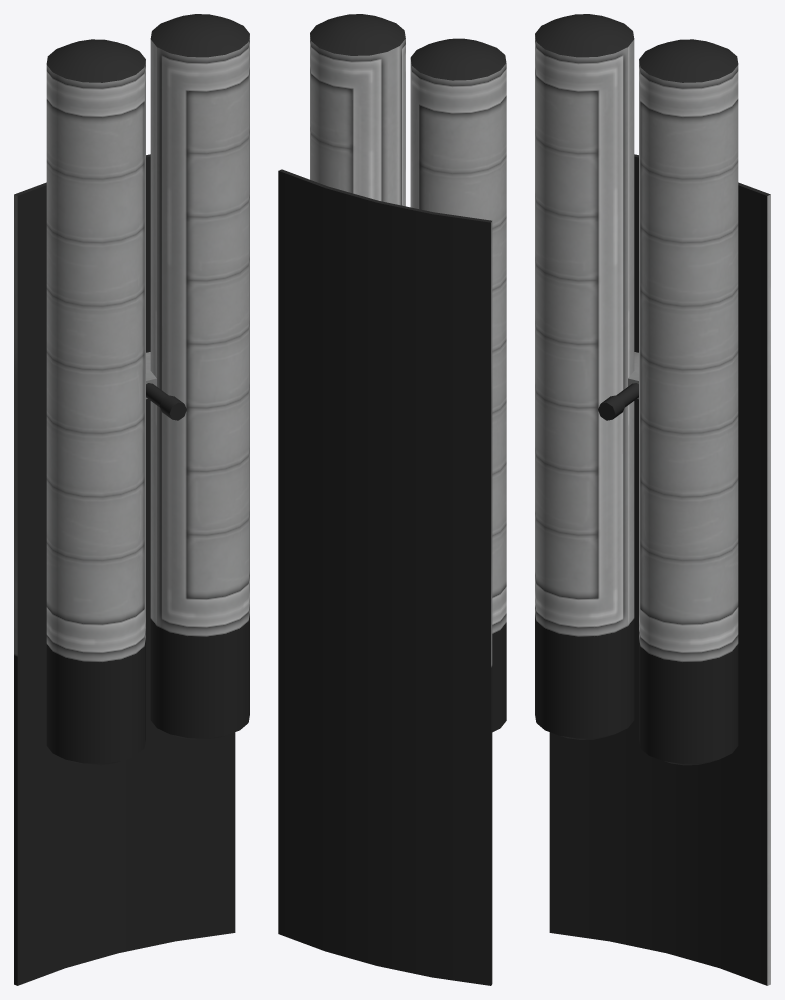
File: aquila_radiator_fuel_tank_double_srf_2_overhang.obj
3 views of the same model, side by side, from view 1: azimuth 30°, elevation 25°; view 2: azimuth 150°, elevation 25°; view 3: azimuth 330°, elevation 25° (orthographic). The views are drawn at different scales.
Visible parts, largest first — view 1: aquila_radiator_tank_double_srf_2; view 2: aquila_radiator_tank_double_srf_2; view 3: aquila_radiator_tank_double_srf_2.
Boxes of the visible parts, bbox=[...] form: aquila_radiator_tank_double_srf_2: bbox=[14, 14, 249, 985]; aquila_radiator_tank_double_srf_2: bbox=[278, 14, 506, 985]; aquila_radiator_tank_double_srf_2: bbox=[535, 14, 770, 985].
Bounding box in the file's own units: 0.6341 × 2.59 × 0.3125.
